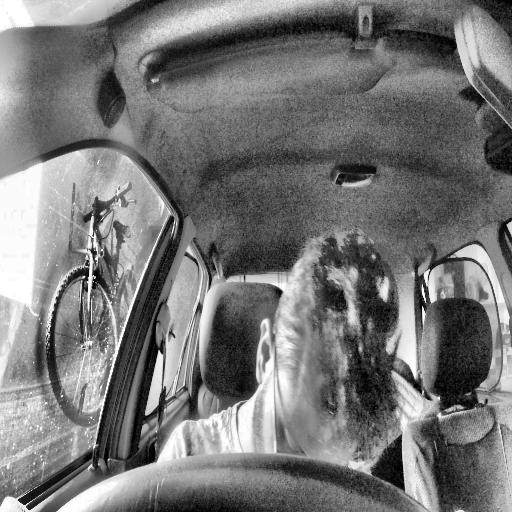drowsy: (253, 222, 400, 480)
